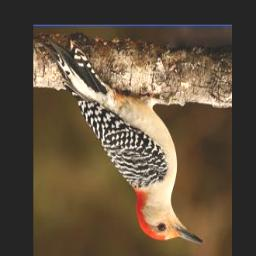Woodpecker: (36, 33, 202, 245)
